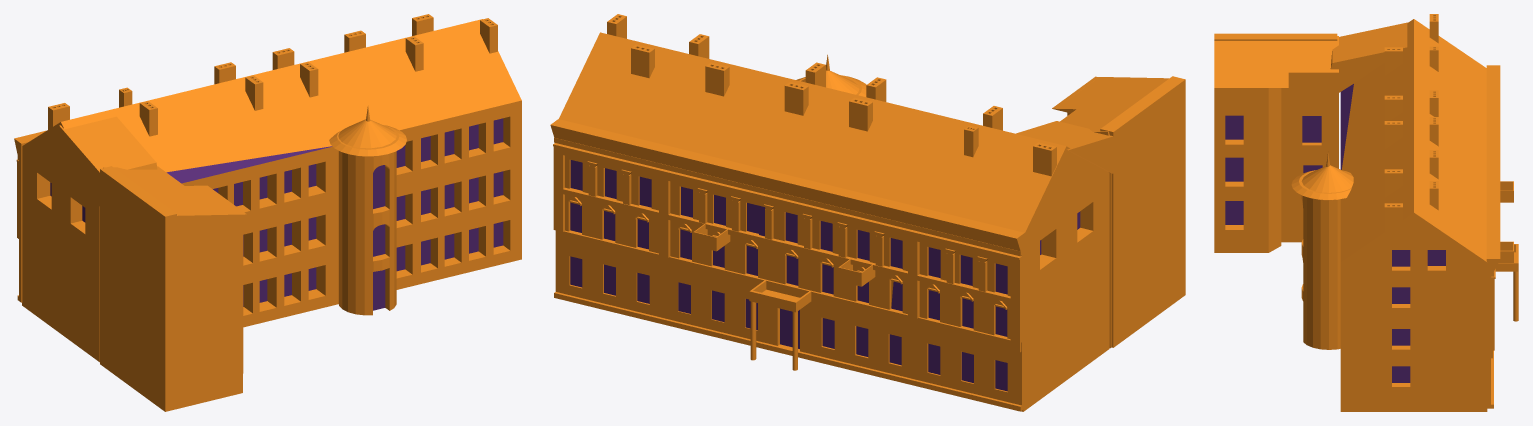
The model's file is Stowarzyszenie Kupców.fbx.
The picture shows the model from 3 angles, left to right: view 1: azimuth 30°, elevation 25°; view 2: azimuth 150°, elevation 25°; view 3: azimuth 270°, elevation 25°; orthographic projection. The views are drawn at different scales.
Parts seen in each view (by area): view 1: Stowarzyszenie_Kupców_obj_0; view 2: Stowarzyszenie_Kupców_obj_0; view 3: Stowarzyszenie_Kupców_obj_0.
Part boxes in pixels (x1,y1,x2,y2): Stowarzyszenie_Kupców_obj_0: [14, 14, 521, 411]; Stowarzyszenie_Kupców_obj_0: [550, 14, 1185, 411]; Stowarzyszenie_Kupców_obj_0: [1214, 14, 1518, 411].
Size of the model in its own units: 36.38 by 17.83 by 24.05.
1 material, 1 textured.
